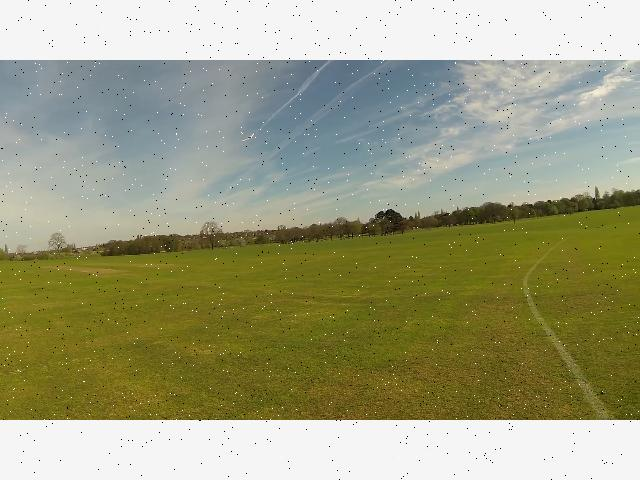Anti-Drone: (236, 130, 264, 146)
